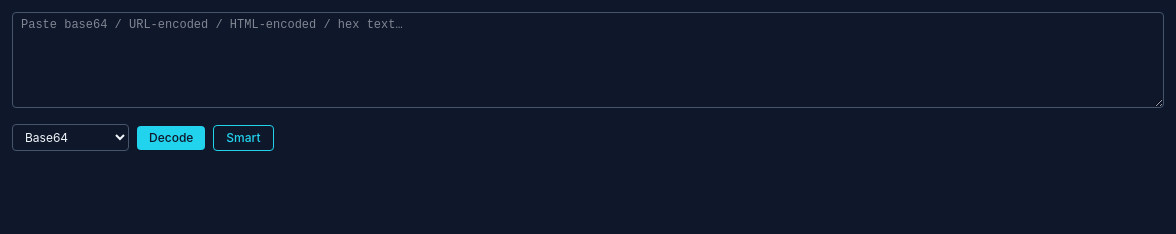
DecoderPanel › decodes a base64 string with the single-op Decode button
"hello" base64-encoded.
Type "aGVsbG8=" into the text box with test id "decoder-panel-input" at {"x": 588, "y": 60}, box top-left (12, 12), bottom-right (1164, 108)
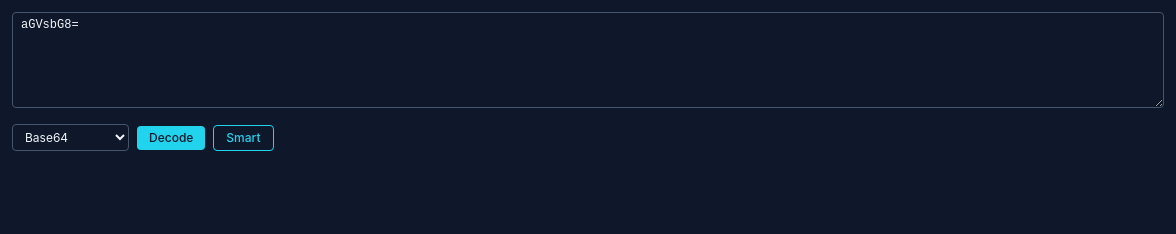
Click the button with test id "decoder-panel-decode" at {"x": 171, "y": 138}, box top-left (137, 126), bottom-right (205, 150)
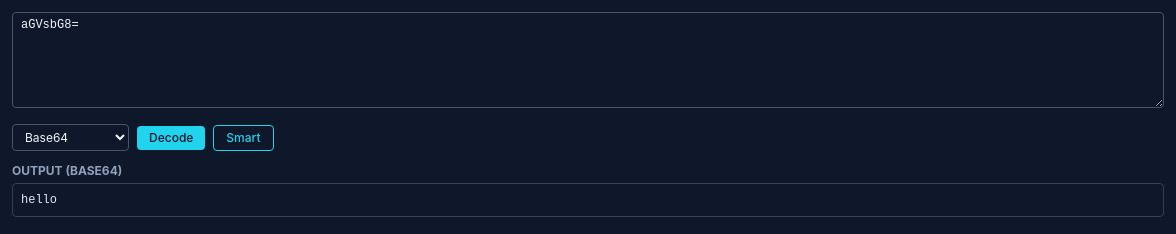
Result: the element with test id "decoder-panel-output" shows "hello" at top-left (21, 193), bottom-right (57, 207)
